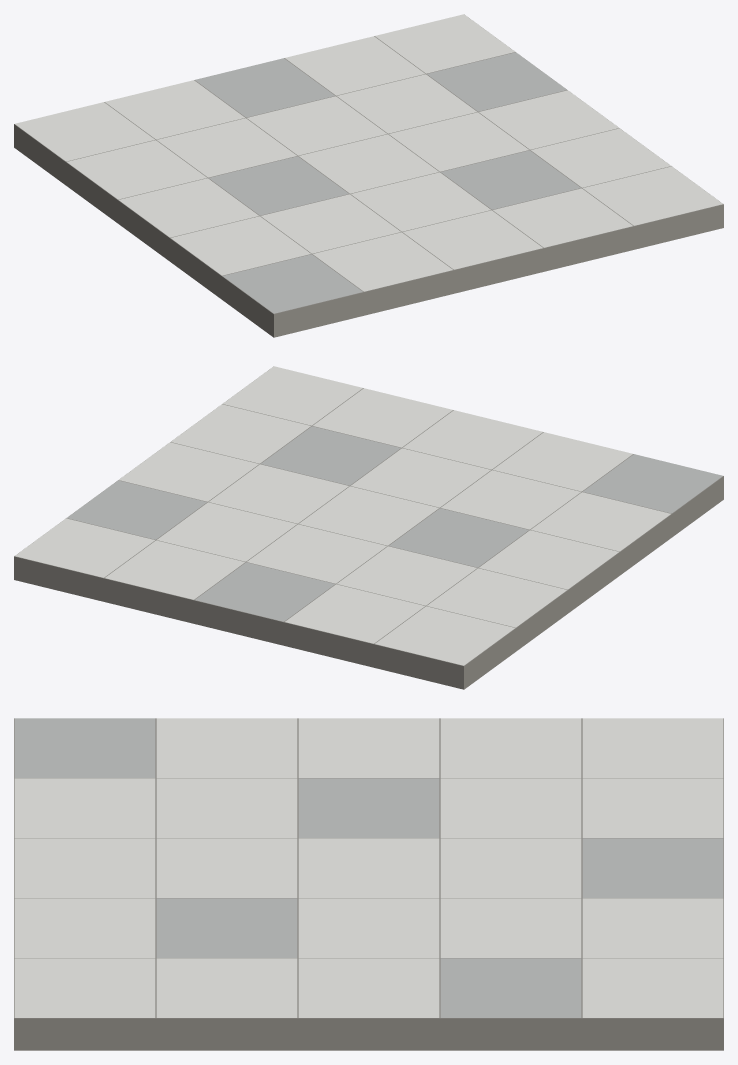
The model's file is SC_Bld_Store_Floor_3x3.gltf.
The picture shows the model from 3 angles, top to bottom: view 1: azimuth 30°, elevation 25°; view 2: azimuth 150°, elevation 25°; view 3: azimuth 270°, elevation 25°; orthographic projection. The views are drawn at different scales.
Parts seen in each view (by area): view 1: SC_Bld_Store_Floor_3x3; view 2: SC_Bld_Store_Floor_3x3; view 3: SC_Bld_Store_Floor_3x3.
Boxes of the visible parts, bbox=[...] form: SC_Bld_Store_Floor_3x3: bbox=[14, 14, 723, 337]; SC_Bld_Store_Floor_3x3: bbox=[14, 366, 723, 689]; SC_Bld_Store_Floor_3x3: bbox=[14, 718, 723, 1050].
Size of the model in its own units: 3 by 0.1515 by 3.
Materials: 1 (1 with a texture image).
